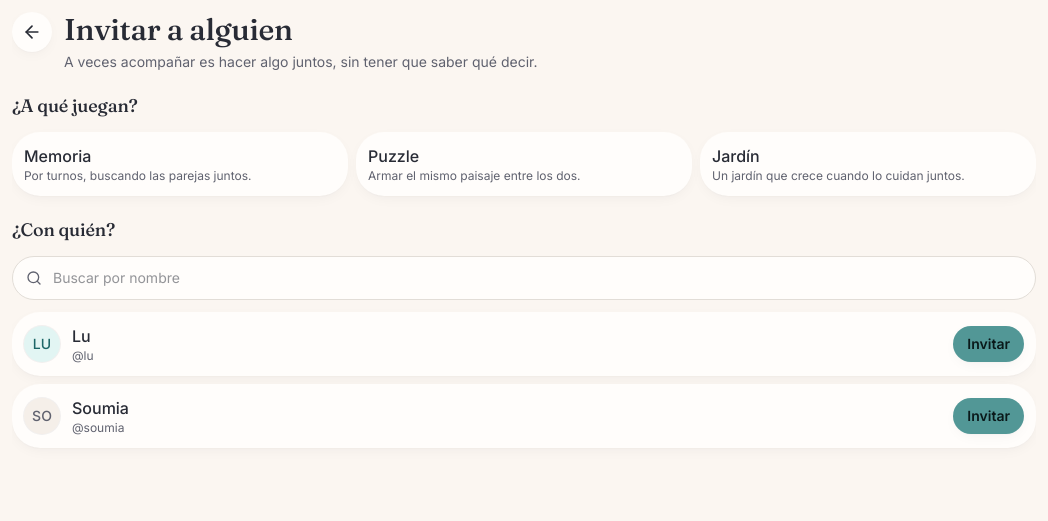
GameInvitePage › asks to wait when there are already many invitations pending
Click the button with aria-label "Invitar a Lu a jugar Memoria": coordinates (989, 344) [953,326,1024,362]
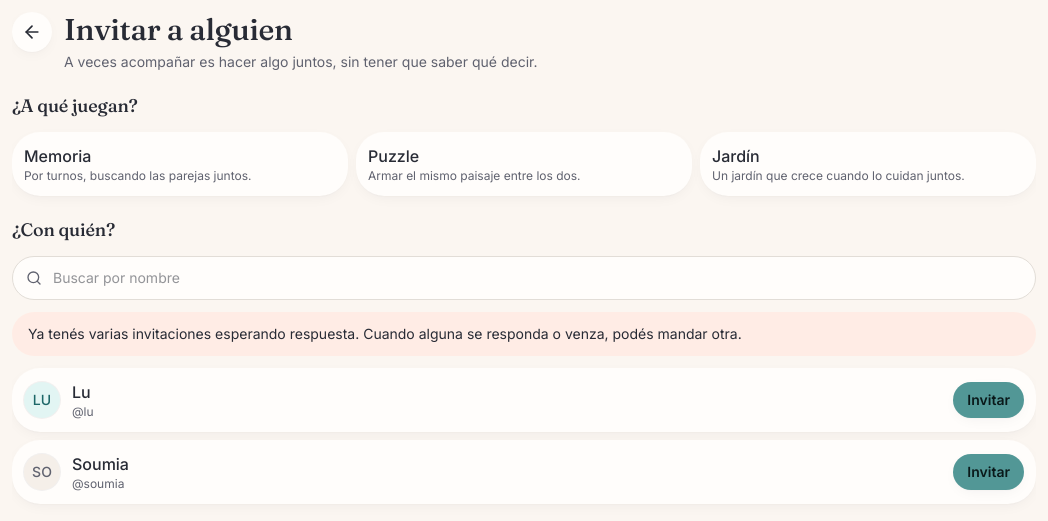
Now the message shows "Ya tenés varias invitaciones esperando respuesta", box [28,325,742,342]
